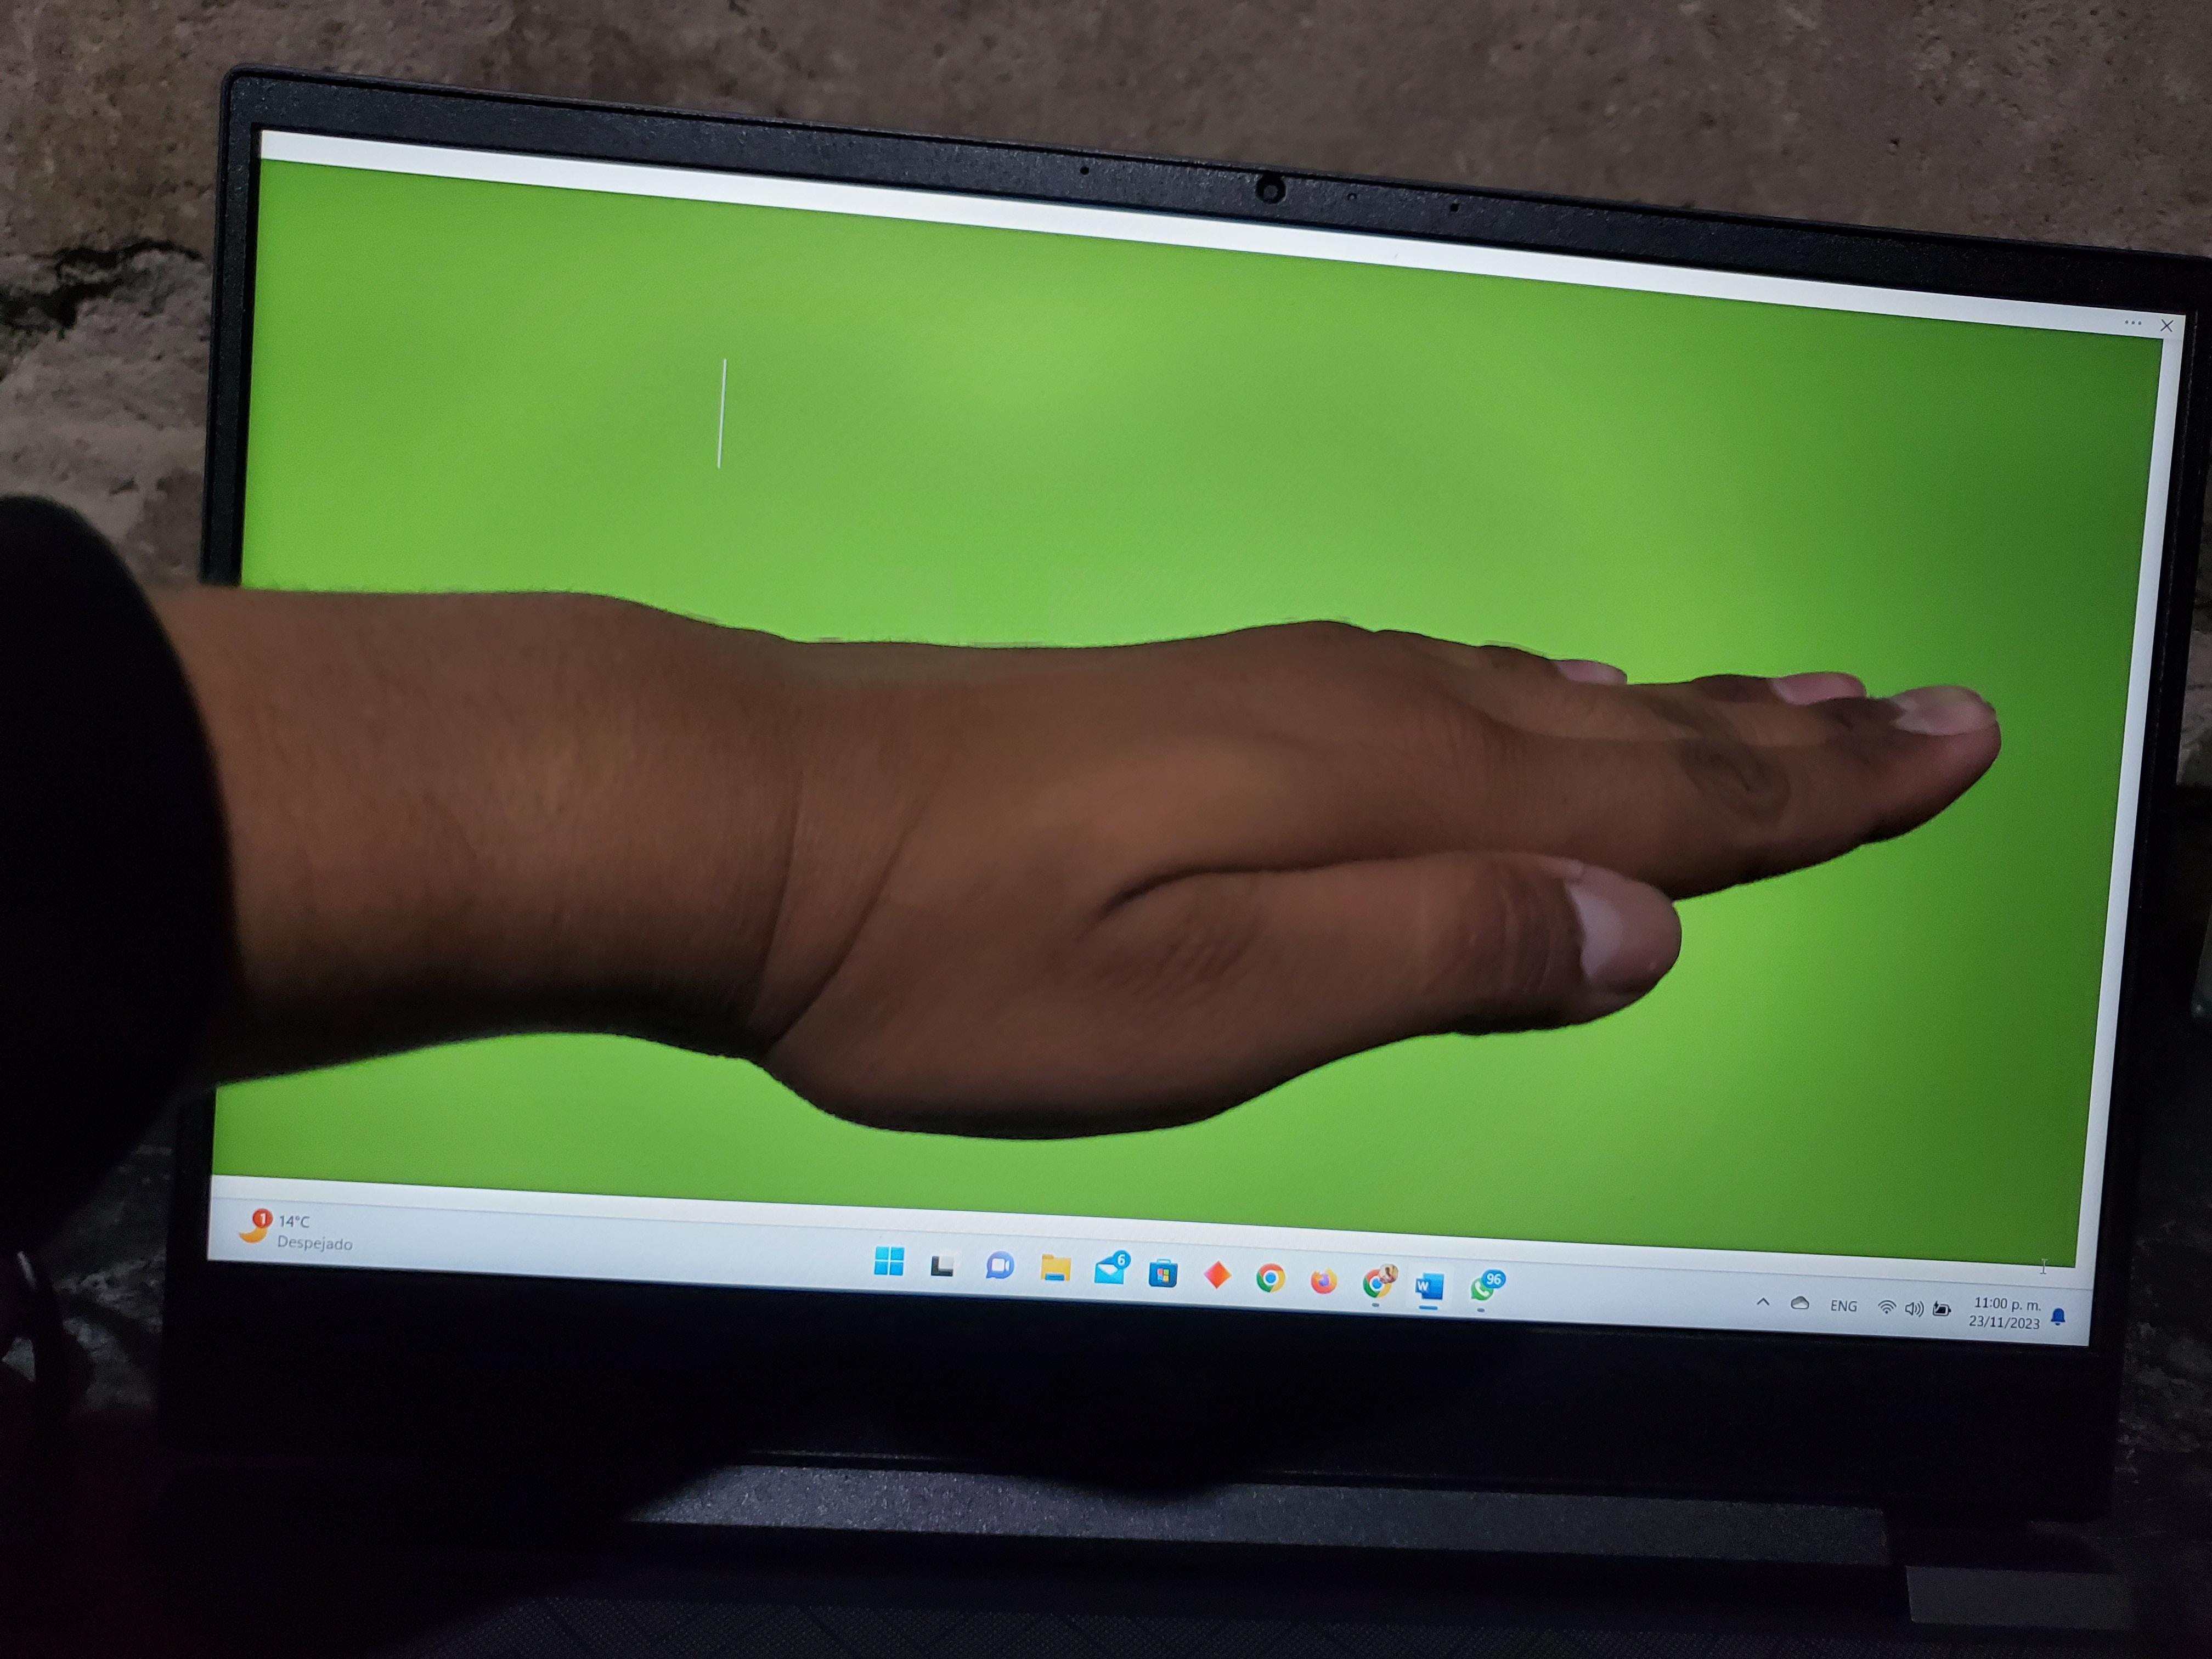Paper: (456, 314, 2033, 1272)
